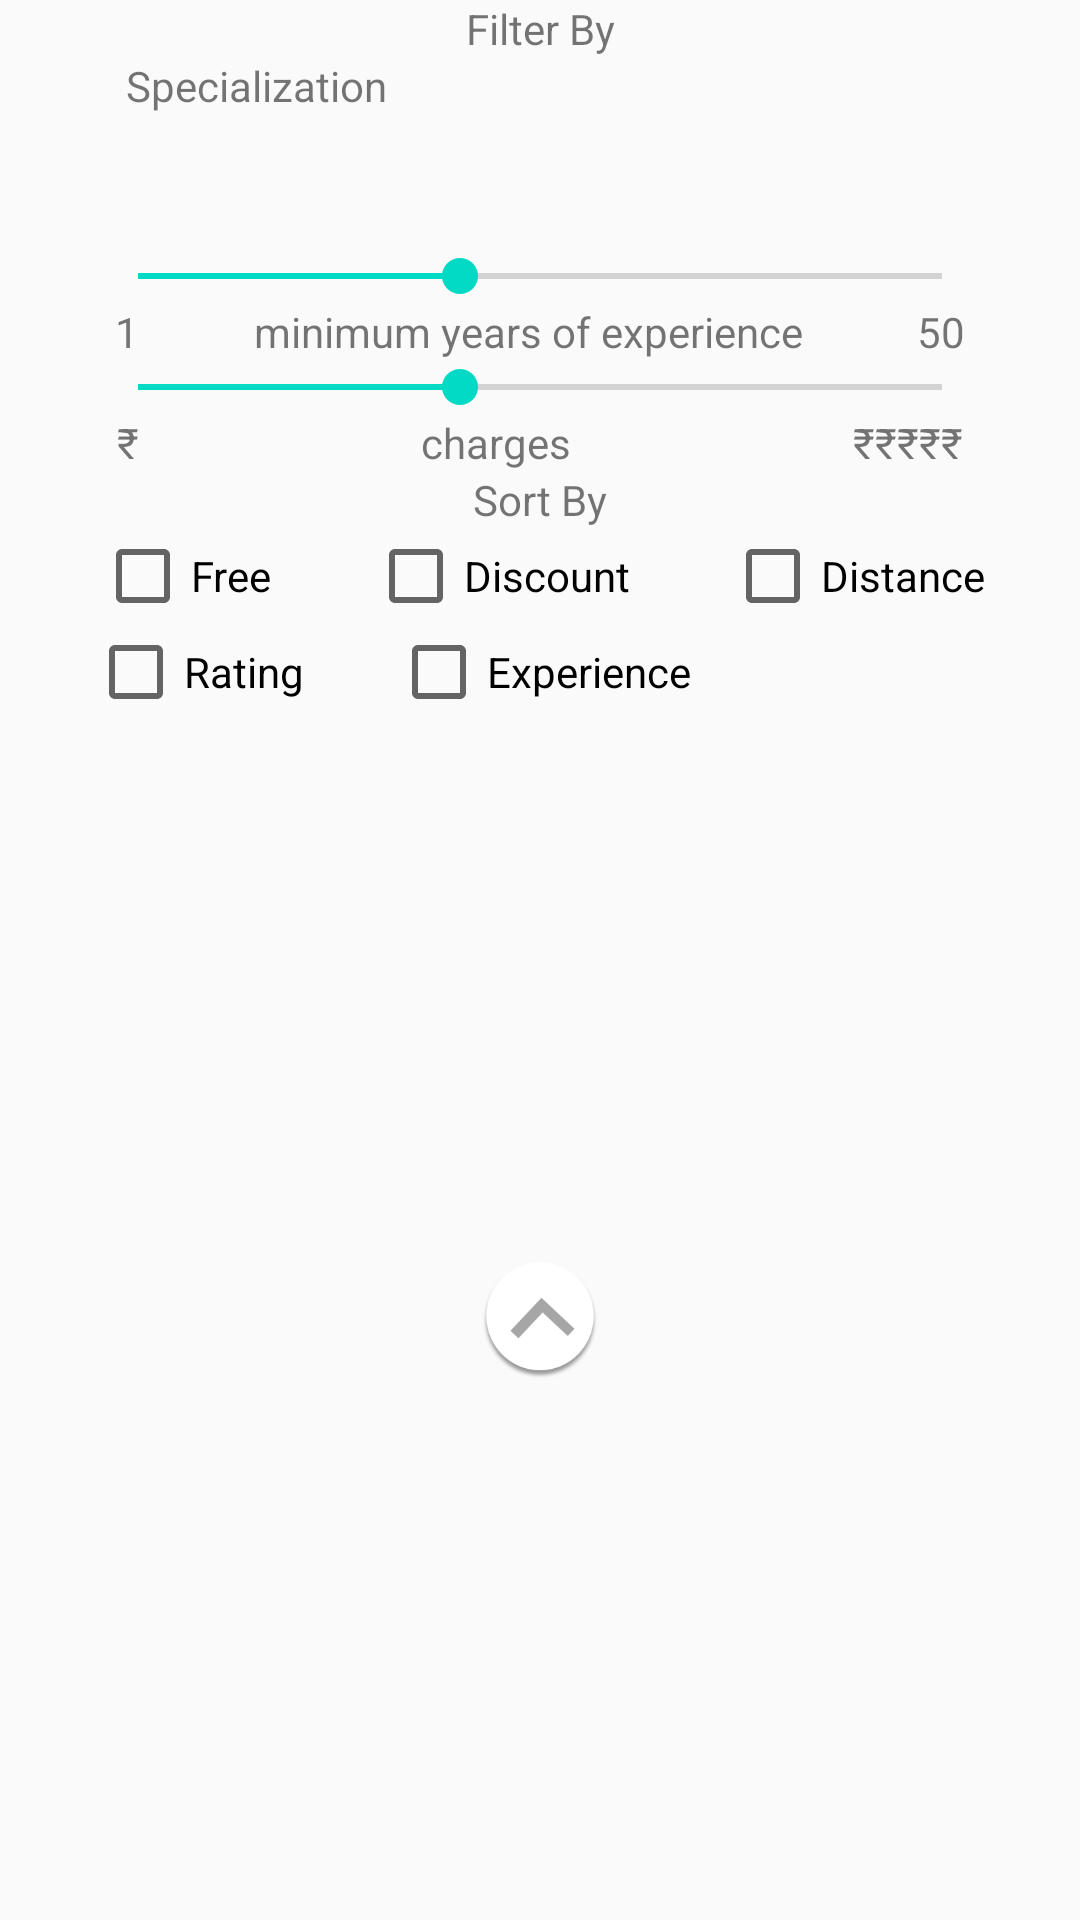

Where to tap for icons on this 1080px x 1920px app screen, as (x=x, y=y):
custom up arrow: (x=540, y=1337)
